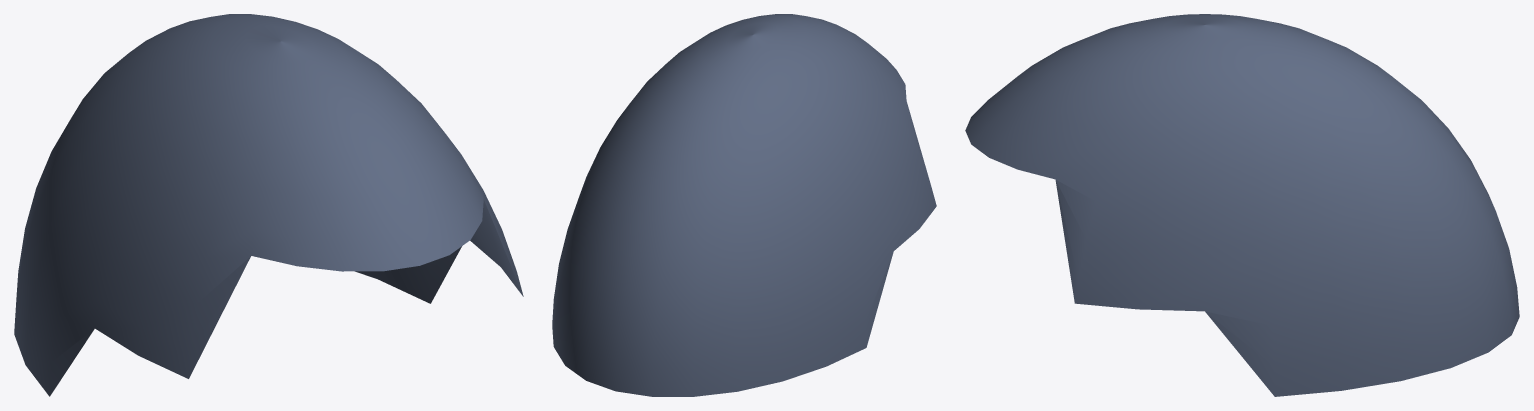
Rendered from capacete_azul.glb.
3 renders of one model, left to right at view 1: azimuth 30°, elevation 25°; view 2: azimuth 150°, elevation 25°; view 3: azimuth 270°, elevation 25°, orthographic. The views are drawn at different scales.
Visible parts, largest first — view 1: capacete_azul; view 2: capacete_azul; view 3: capacete_azul.
Boxes of the visible parts, box(x1,y1,x2,y2) form: capacete_azul: box(14, 14, 523, 396); capacete_azul: box(552, 14, 936, 396); capacete_azul: box(965, 14, 1519, 396).
Size of the model in its own units: 0.217 by 0.1844 by 0.3174.
